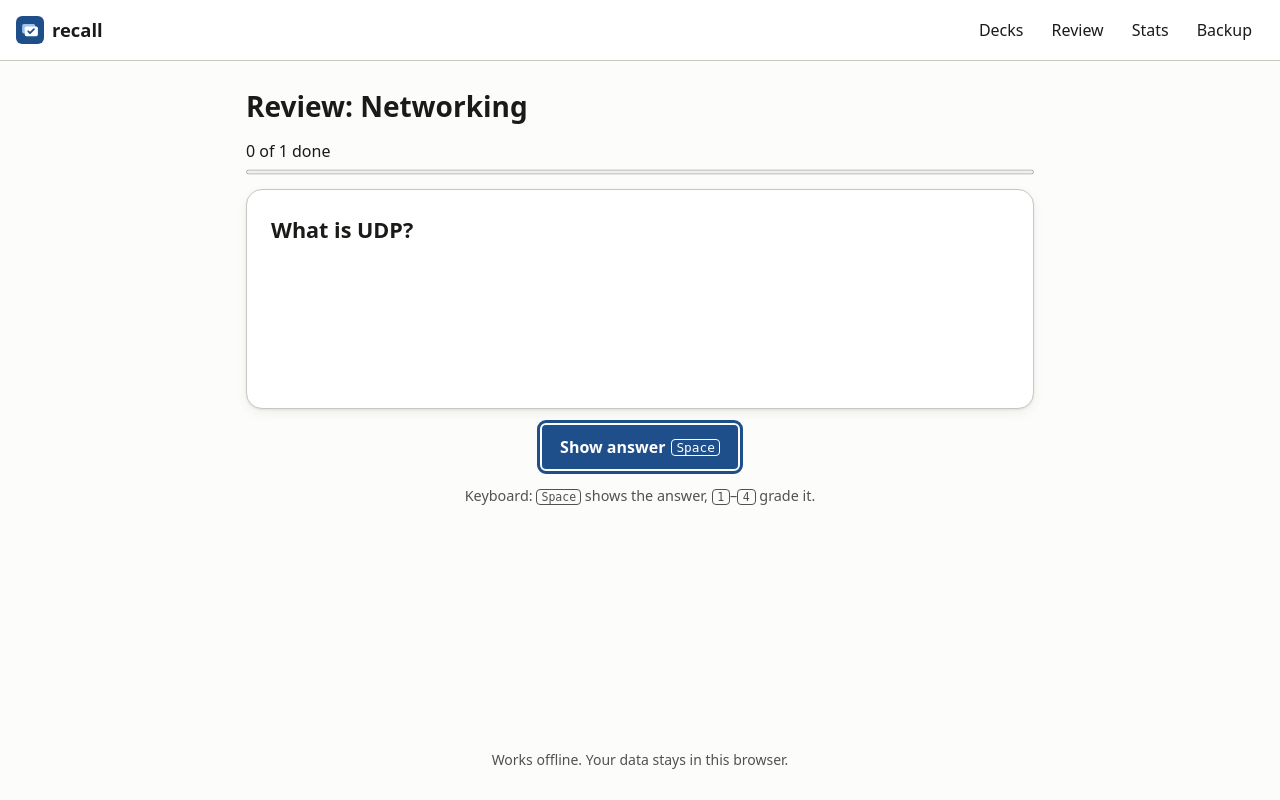
day rollover while the app stays open › offers the cards that fell due at midnight once the evening session is over
Check: the heading "Review: Networking" is shown, box [246,87,528,125]
Type keys " "
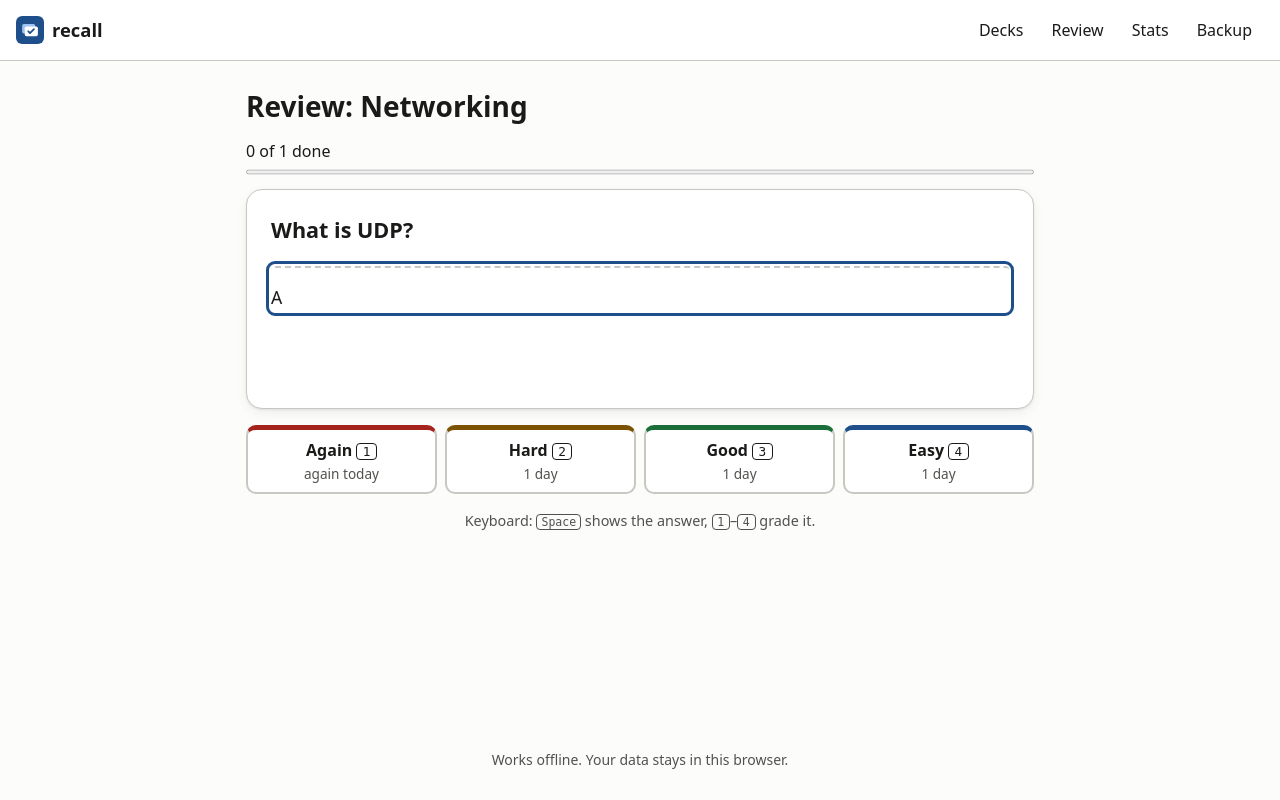
Type keys "3"
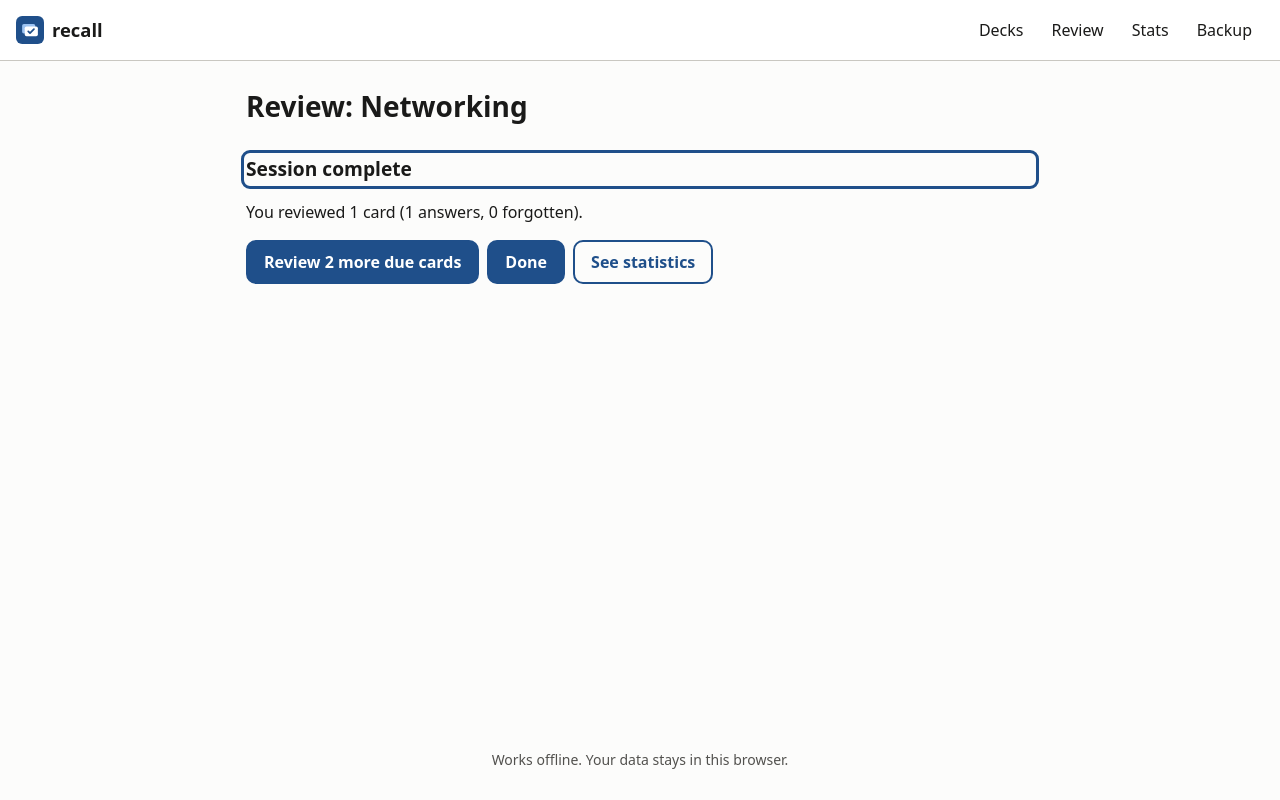
Check: the heading "Session complete" is shown, box [246,155,412,182]
Click the button "Review 2 more due cards" at (363, 262), box [246,240,479,284]
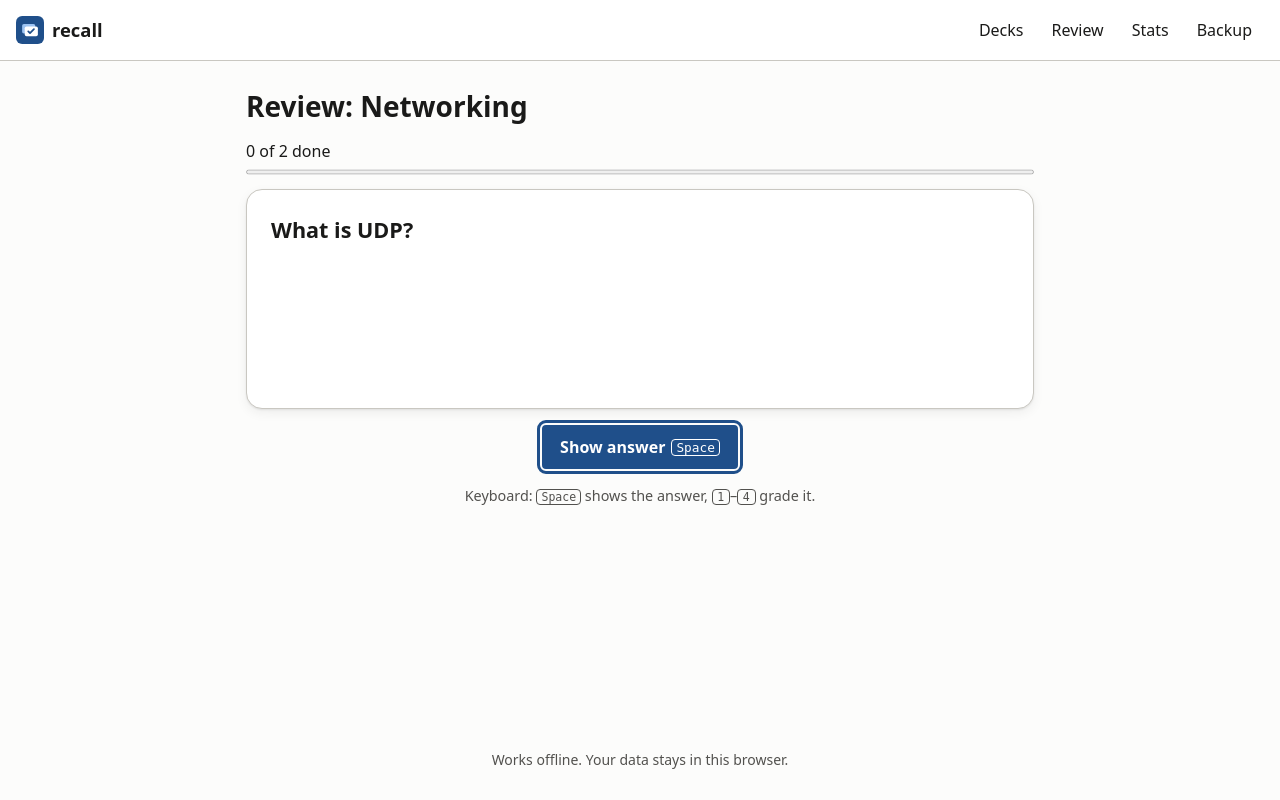
Check: the text "0 of 2 done" is shown, box [246,140,330,162]
